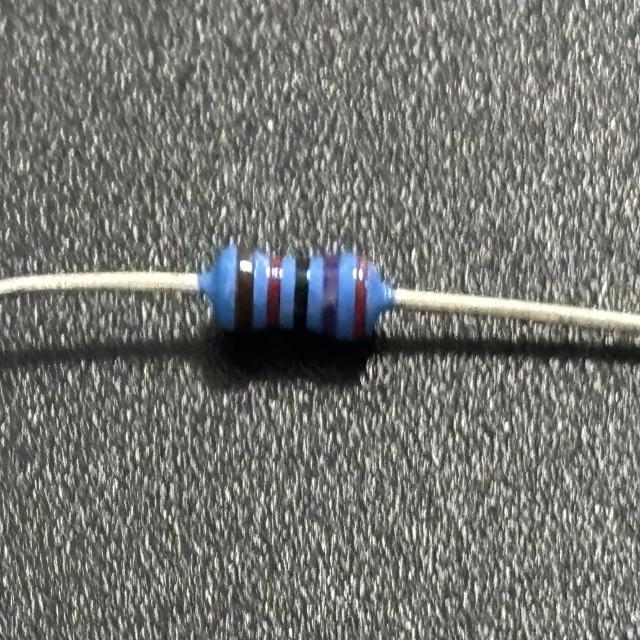resistor: (219, 242, 382, 345)
